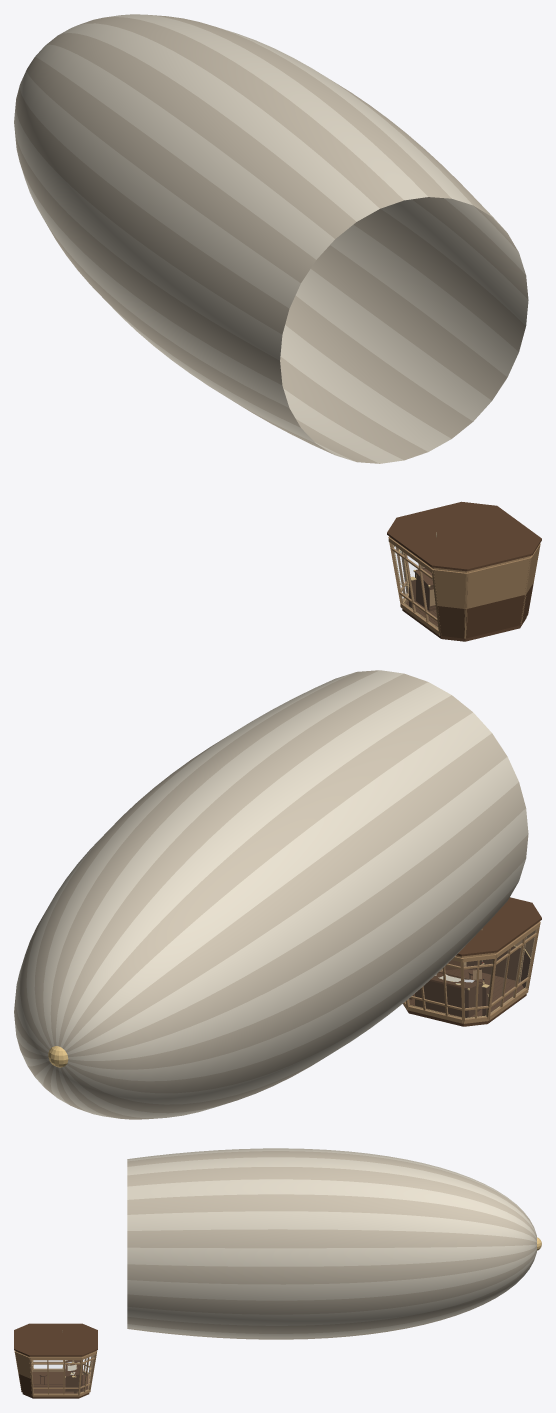
The model's file is cabin.glb.
The picture shows the model from 3 angles, top to bottom: view 1: azimuth 30°, elevation 25°; view 2: azimuth 150°, elevation 25°; view 3: azimuth 270°, elevation 25°; orthographic projection. The views are drawn at different scales.
Visible parts, largest first — view 1: balloon, ceiling, wall_back, window_frame; view 2: balloon, window_frame, ceiling, table, floor, wall_back; view 3: balloon, ceiling, window_frame, floor, wall_back.
Boxes of the visible parts, x1,y1,x2,y2 form: balloon: [14, 14, 528, 463]; ceiling: [387, 501, 541, 572]; wall_back: [433, 543, 540, 638]; window_frame: [388, 536, 539, 638]; balloon: [14, 670, 528, 1119]; window_frame: [403, 922, 540, 1023]; ceiling: [455, 897, 541, 957]; table: [415, 981, 484, 1017]; floor: [403, 969, 526, 1026]; wall_back: [445, 921, 540, 989]; balloon: [127, 1148, 541, 1339]; ceiling: [14, 1323, 97, 1357]; window_frame: [15, 1350, 97, 1396]; floor: [22, 1372, 89, 1398]; wall_back: [14, 1350, 32, 1396].
Bounding box in the file's own units: 9.18 × 12.11 × 25.31.
